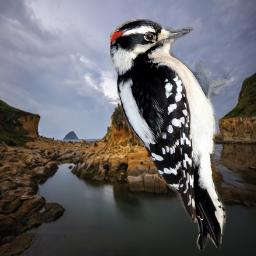Woodpecker: (110, 19, 227, 251)
